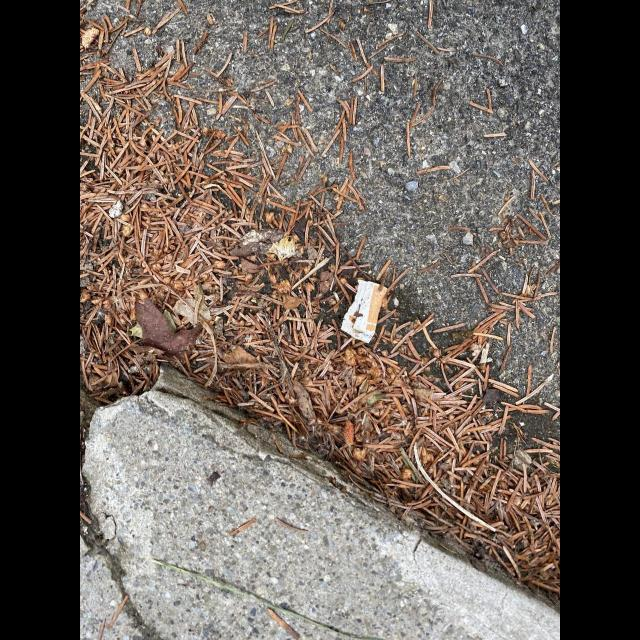cigarette: (340, 279, 388, 343)
